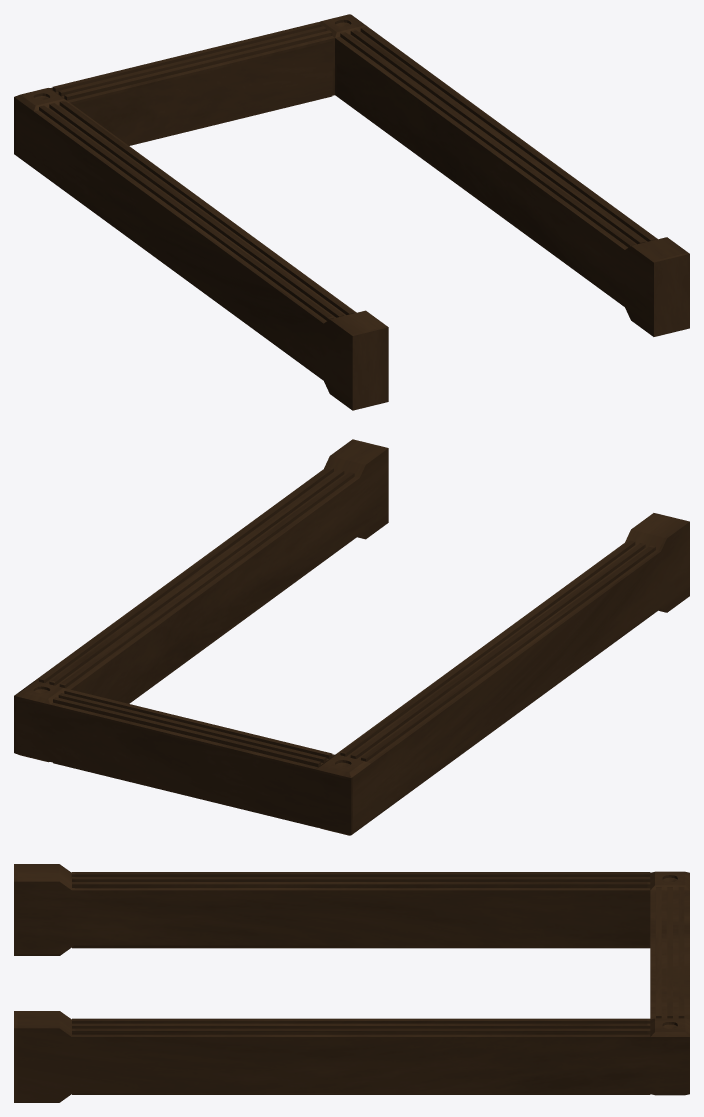
Rendered from MarcoPuertaEntrada.fbx.
3 views of the same model, one above another, from view 1: azimuth 30°, elevation 25°; view 2: azimuth 150°, elevation 25°; view 3: azimuth 270°, elevation 25° (orthographic).
Parts seen in each view (by area): view 1: Marco; view 2: Marco; view 3: Marco.
Boxes of the visible parts, box(x1,y1,x2,y2) form: Marco: box(14, 14, 689, 410); Marco: box(14, 439, 689, 835); Marco: box(14, 864, 689, 1102).
Size of the model in its own units: 146 by 30.81 by 254.
